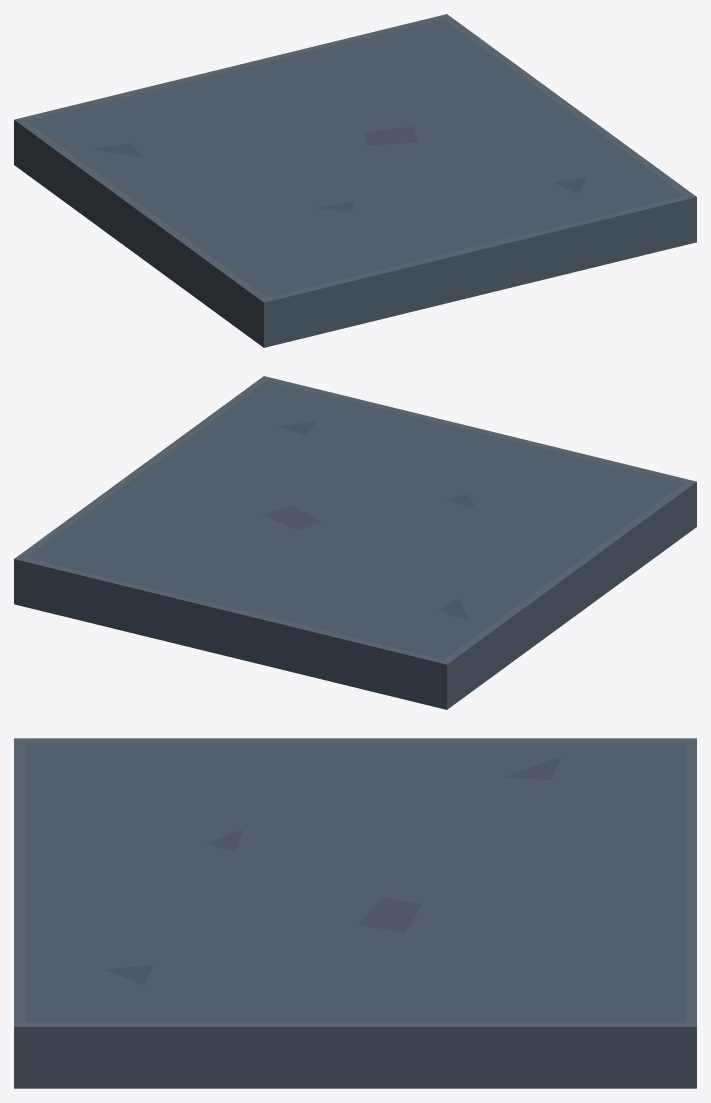
The model's file is ConcrateSlabs_C_2_3.fbx.
3 views of the same model, one above another, from view 1: azimuth 30°, elevation 25°; view 2: azimuth 150°, elevation 25°; view 3: azimuth 270°, elevation 25° (orthographic). The views are drawn at different scales.
Parts seen in each view (by area): view 1: ConcrateSlabs_C_2_3; view 2: ConcrateSlabs_C_2_3; view 3: ConcrateSlabs_C_2_3.
Part boxes in pixels (x1,y1,x2,y2): ConcrateSlabs_C_2_3: (14,14,696,347); ConcrateSlabs_C_2_3: (14,376,696,709); ConcrateSlabs_C_2_3: (14,738,696,1088).
Bounding box in the file's own units: 400 × 40 × 400.
